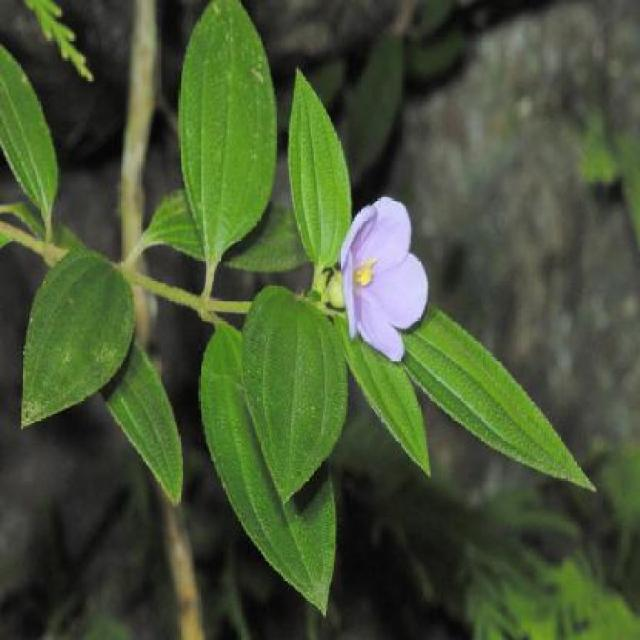flower: (326, 178, 437, 368)
